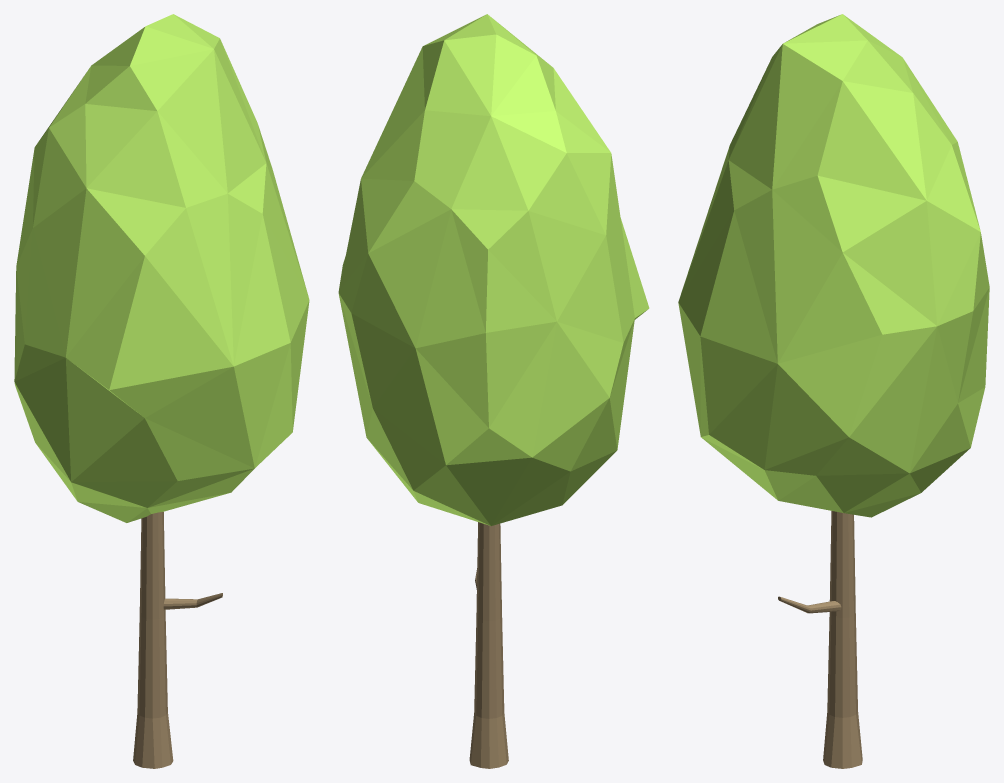
The model's file is more tree.fbx.
3 views of the same model, side by side, from view 1: azimuth 30°, elevation 25°; view 2: azimuth 150°, elevation 25°; view 3: azimuth 270°, elevation 25° (orthographic). The views are drawn at different scales.
Visible parts, largest first — view 1: tree_010_light_green; view 2: tree_010_light_green; view 3: tree_010_light_green.
Boxes of the visible parts, bbox=[...] form: tree_010_light_green: bbox=[14, 14, 309, 768]; tree_010_light_green: bbox=[338, 14, 649, 768]; tree_010_light_green: bbox=[678, 14, 989, 768].
Bounding box in the file's own units: 2.9 × 7.57 × 2.88.
